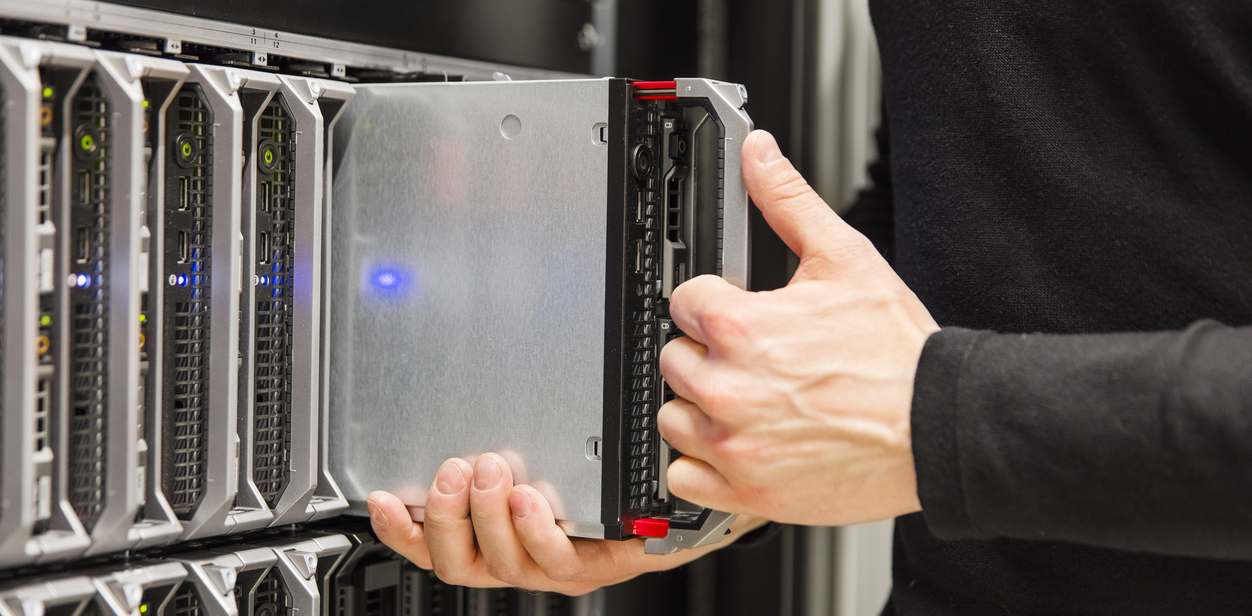ibm-server: (576, 52, 748, 563), (226, 65, 328, 530)
